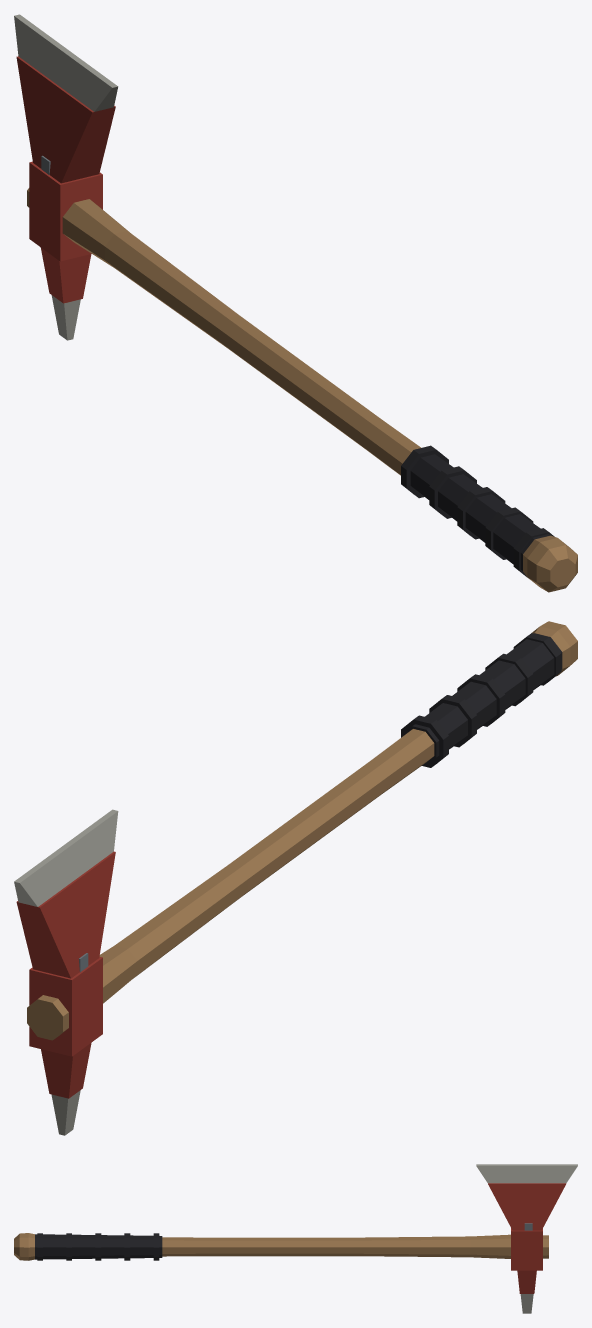
The model's file is fire_axe.glb.
3 views of the same model, one above another, from view 1: azimuth 30°, elevation 25°; view 2: azimuth 150°, elevation 25°; view 3: azimuth 270°, elevation 25° (orthographic). The views are drawn at different scales.
Visible parts, largest first — view 1: fire_axe; view 2: fire_axe; view 3: fire_axe.
Boxes of the visible parts, box(x1,y1,x2,y2) form: fire_axe: box(14, 14, 577, 592); fire_axe: box(14, 621, 577, 1135); fire_axe: box(14, 1164, 577, 1313).
Size of the model in its own units: 0.0443 by 0.28 by 0.97.
Materials: 1 (1 with a texture image).
